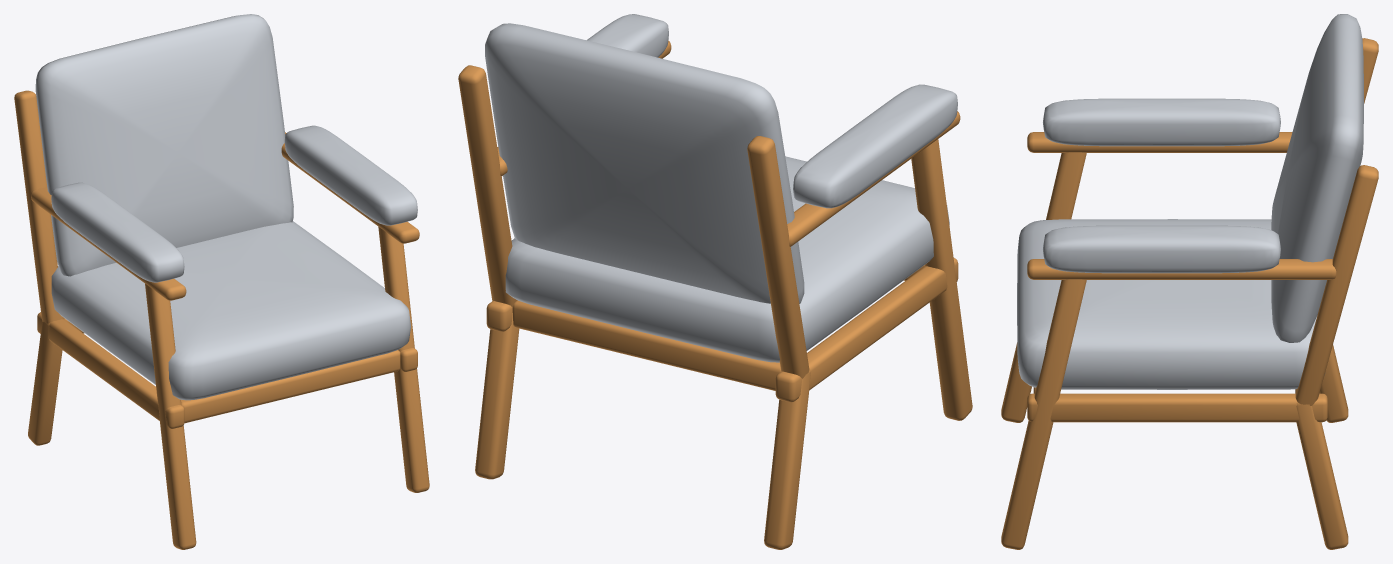
The model's file is poltrona_bracos_acolchoados_cinza.glb.
3 renders of one model, left to right at view 1: azimuth 30°, elevation 25°; view 2: azimuth 150°, elevation 25°; view 3: azimuth 270°, elevation 25°, orthographic. The views are drawn at different scales.
Parts seen in each view (by area): view 1: poltrona_bracos_acolchoados_cinza; view 2: poltrona_bracos_acolchoados_cinza; view 3: poltrona_bracos_acolchoados_cinza.
Part boxes in pixels (x1=…): poltrona_bracos_acolchoados_cinza: x1=14, y1=14, x2=429, y2=549; poltrona_bracos_acolchoados_cinza: x1=458, y1=14, x2=972, y2=549; poltrona_bracos_acolchoados_cinza: x1=1001, y1=14, x2=1378, y2=549.
Bounding box in the file's own units: 0.675 × 0.8883 × 0.7283.
1 material, 1 textured.
